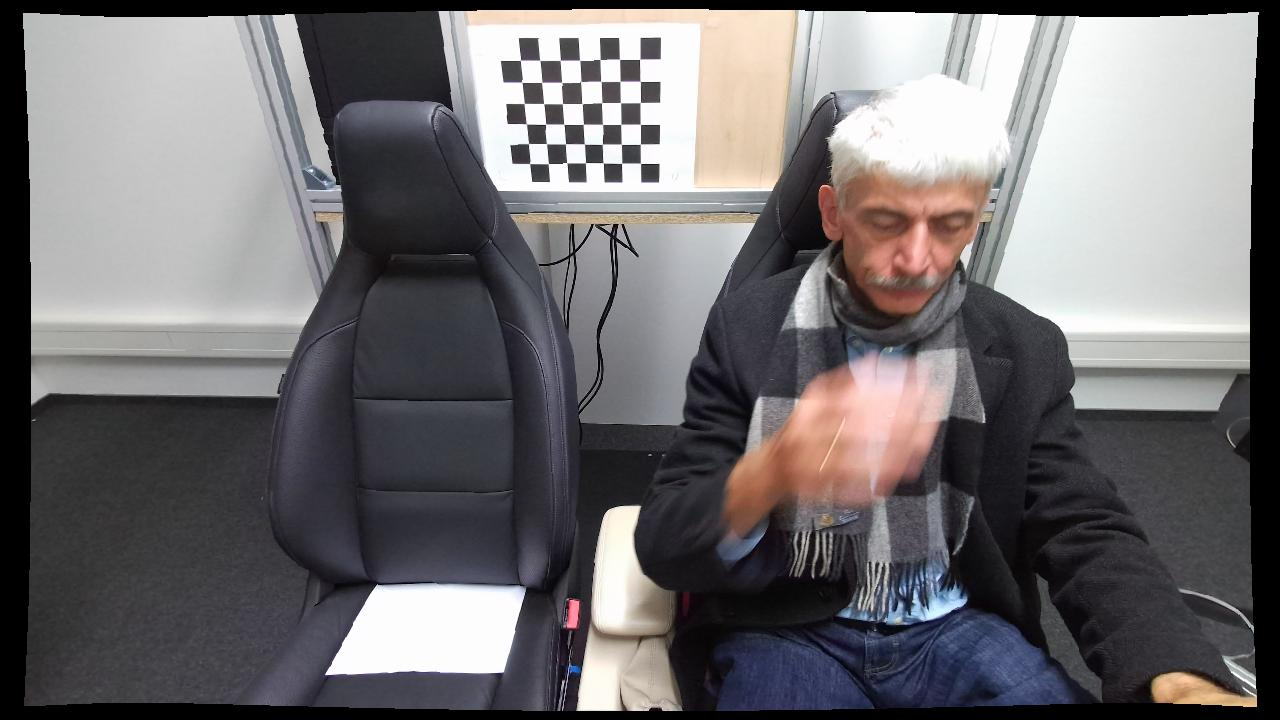Distracted: (633, 74, 1101, 715)
